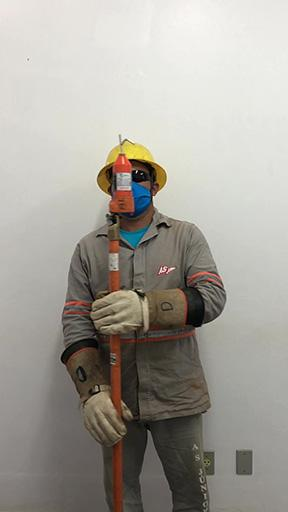Detector_Tensao_Contato: (107, 132, 136, 217)
Vara_Manobra: (105, 219, 122, 512)
